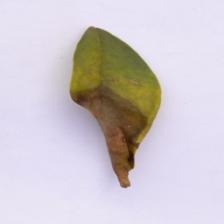black spot: (71, 77, 162, 180)
